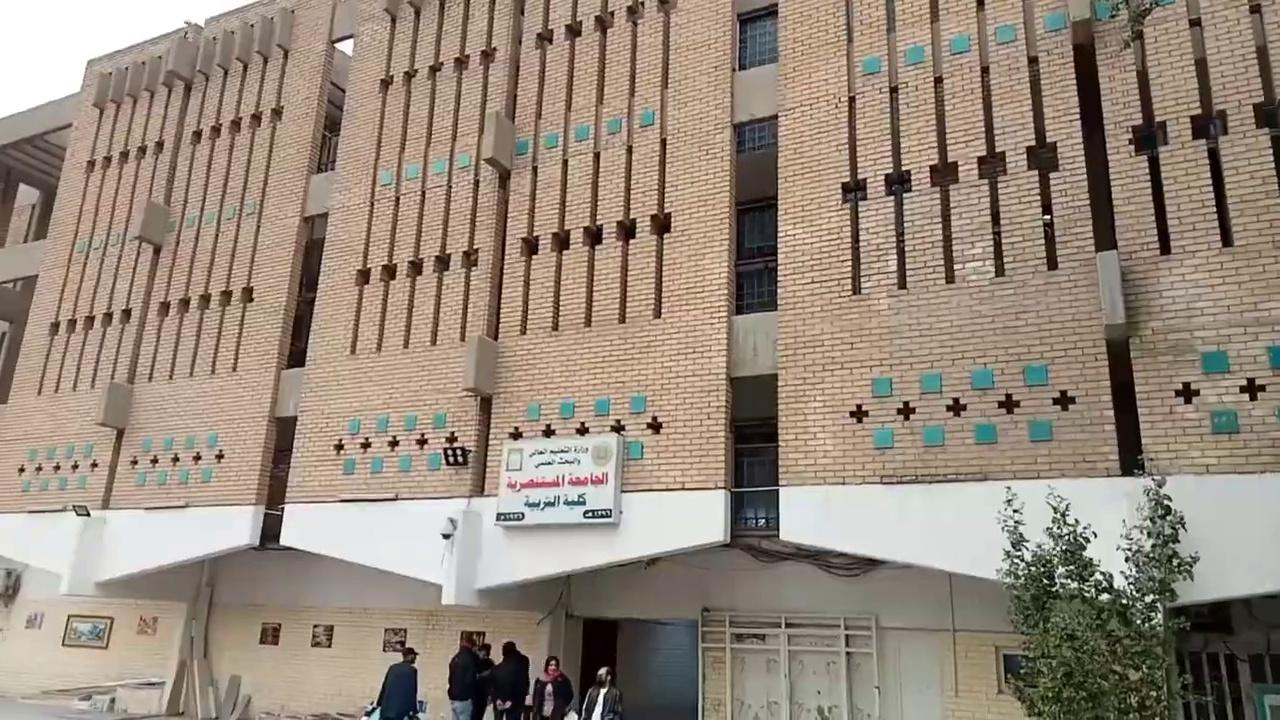person: (447, 634, 491, 719), (375, 646, 422, 719), (489, 640, 530, 719), (531, 655, 574, 719), (580, 665, 623, 719), (471, 642, 495, 719)
tree: (992, 476, 1207, 718), (1113, 477, 1203, 718)
